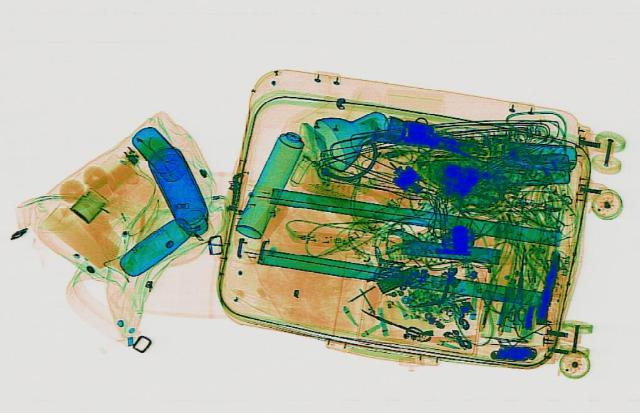Scissors: (353, 306, 425, 336)
